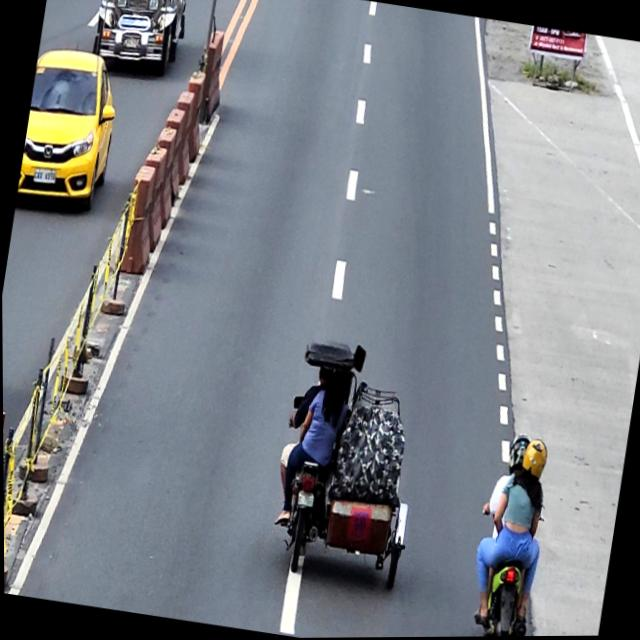Car: (15, 43, 125, 214)
Jeep: (89, 0, 193, 79)
License-Plate: (31, 165, 58, 185), (295, 491, 314, 509), (123, 35, 142, 52)
Motorcycle: (457, 500, 546, 637)
Tricycle: (262, 334, 435, 593)
